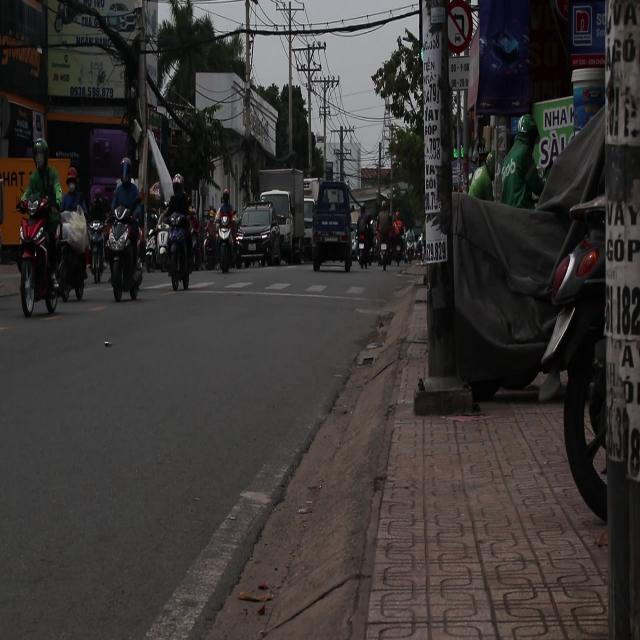car: (235, 204, 282, 268)
motorbike: (15, 199, 70, 327), (106, 193, 154, 325), (159, 219, 199, 306), (211, 206, 236, 290), (87, 218, 111, 288)
truck: (257, 170, 311, 263), (308, 179, 356, 270)
